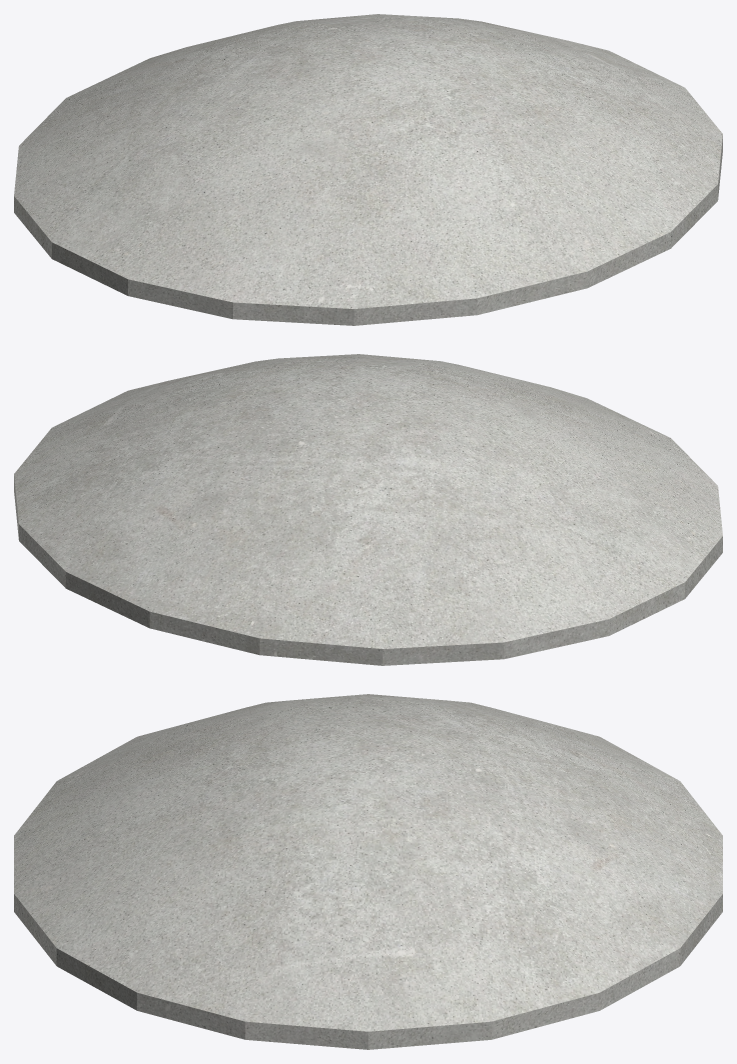
File: TechoOval.fbx
3 renders of one model, top to bottom at view 1: azimuth 30°, elevation 25°; view 2: azimuth 150°, elevation 25°; view 3: azimuth 270°, elevation 25°, orthographic. The views are drawn at different scales.
Visible parts, largest first — view 1: Cylinder024; view 2: Cylinder024; view 3: Cylinder024.
Part boxes in pixels (x1,y1,x2,y2): Cylinder024: [14, 14, 722, 325]; Cylinder024: [14, 354, 722, 665]; Cylinder024: [14, 694, 722, 1049].
Bounding box in the file's own units: 546 × 103 × 490.
